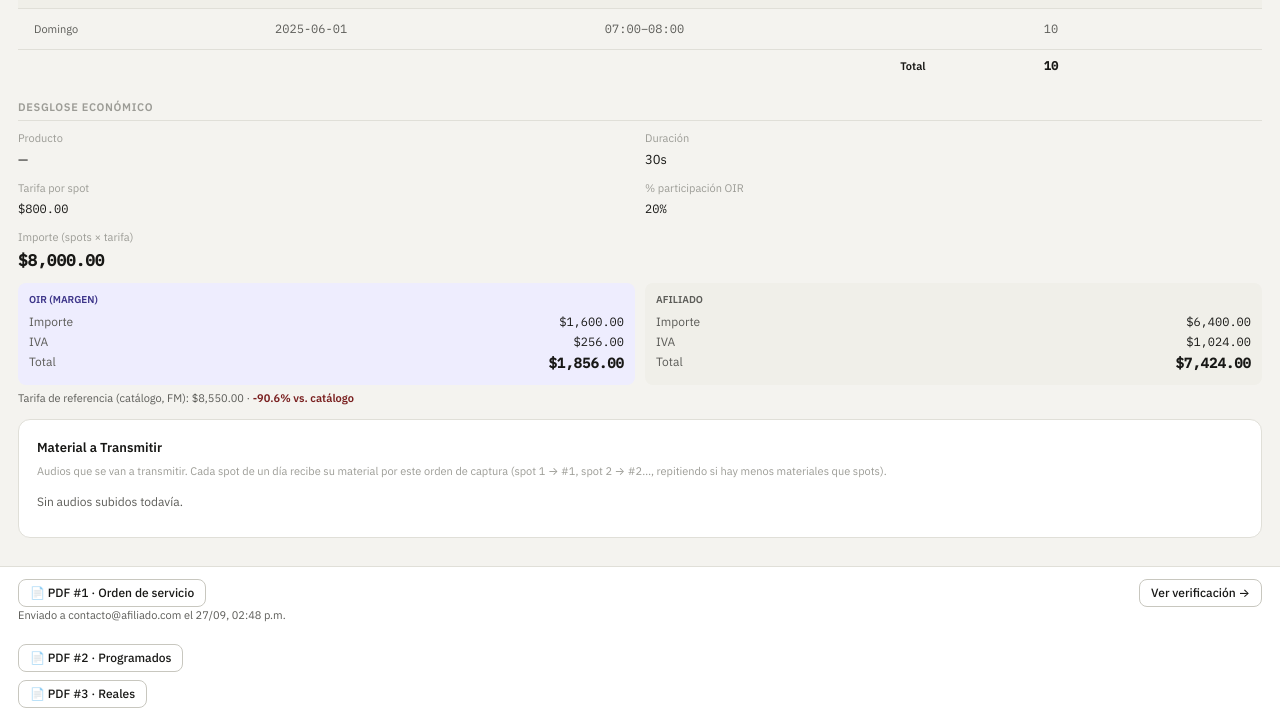
Test: ADR-140/ADR-145: Servicio/Reales dependen del anunciante; Programados del afiliado › un tipo habilitado no habilita al otro — cada uno consulta su propio catálogo de contactos
(page scrolled)
PDF #1 (Servicio) → depende del anunciante, que SÍ tiene contacto activo.
Click the button "📄 PDF #1 · Orden de servicio" at {"x": 112, "y": 593}, box [18,579,206,607]
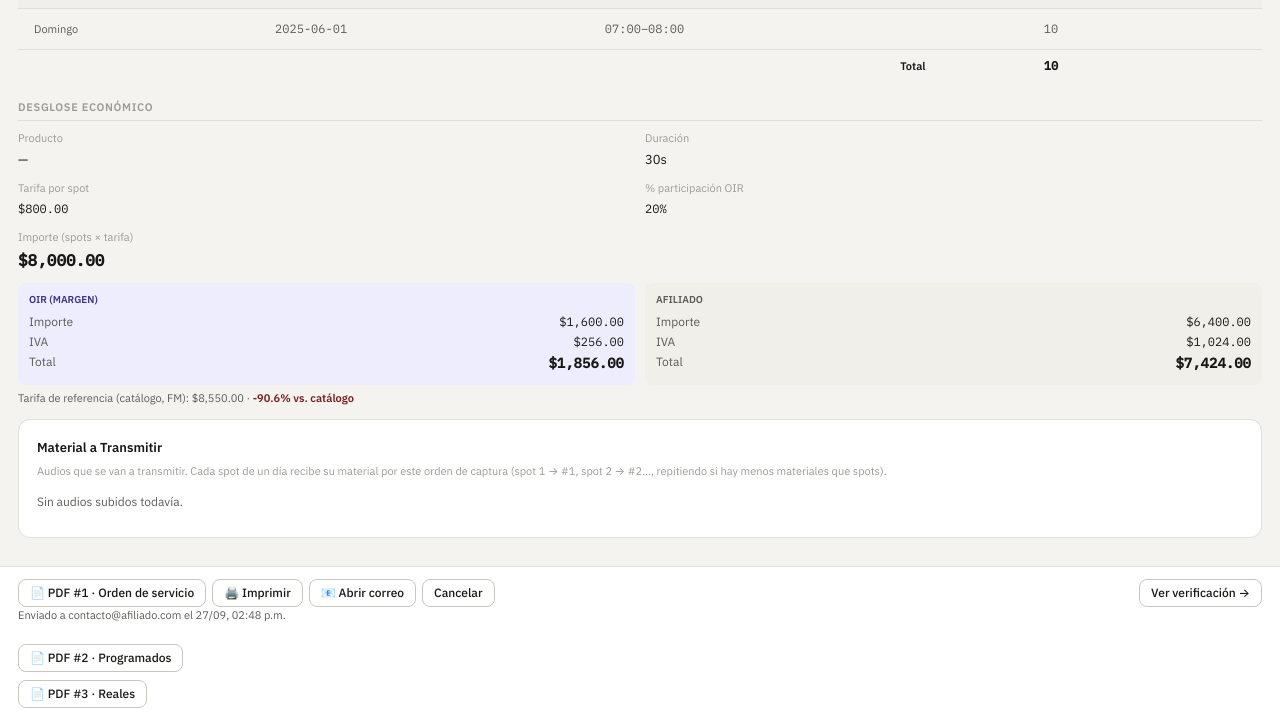
Expected: the button "📧 Abrir correo" is enabled, [309,579,416,607]
Click the button "Cancelar" at {"x": 458, "y": 593}, box [422,579,495,607]
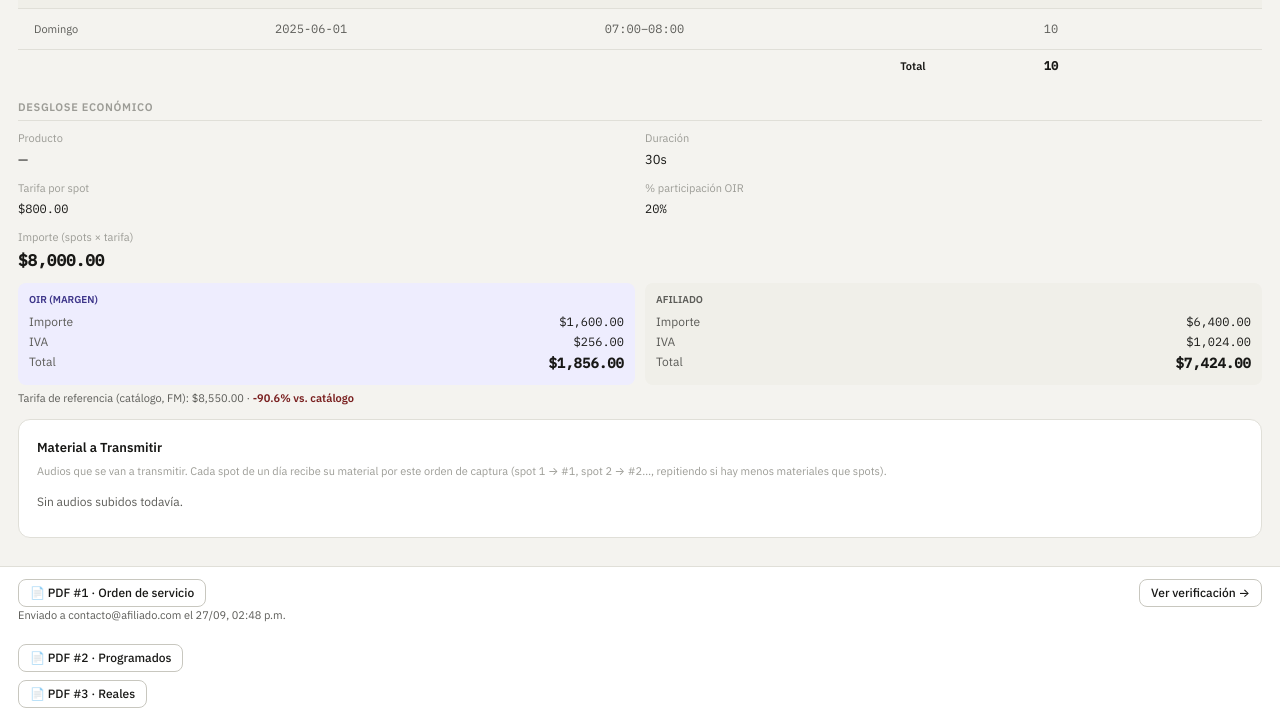
PDF #2 (Programados) → depende del afiliado, que NO tiene ninguno.
Click the button "📄 PDF #2 · Programados" at {"x": 101, "y": 658}, box [18,644,184,672]
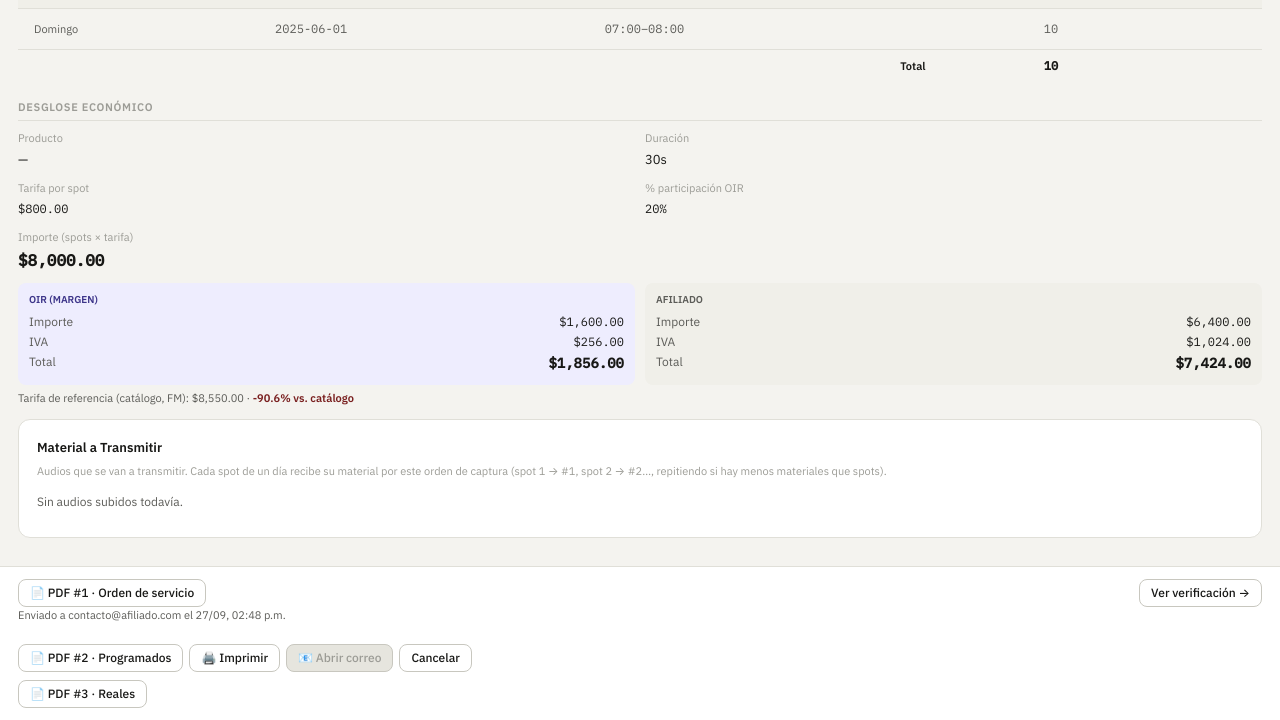
Expected: the button "📧 Abrir correo" is disabled, [286,644,393,672]
